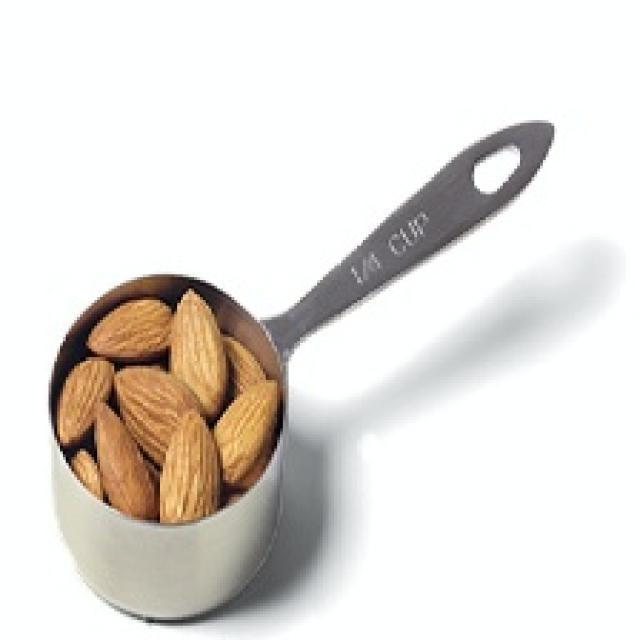almond: (210, 370, 285, 491), (113, 368, 203, 461), (93, 399, 158, 523), (160, 408, 221, 525), (170, 290, 226, 415), (58, 355, 118, 447), (87, 298, 172, 361)
